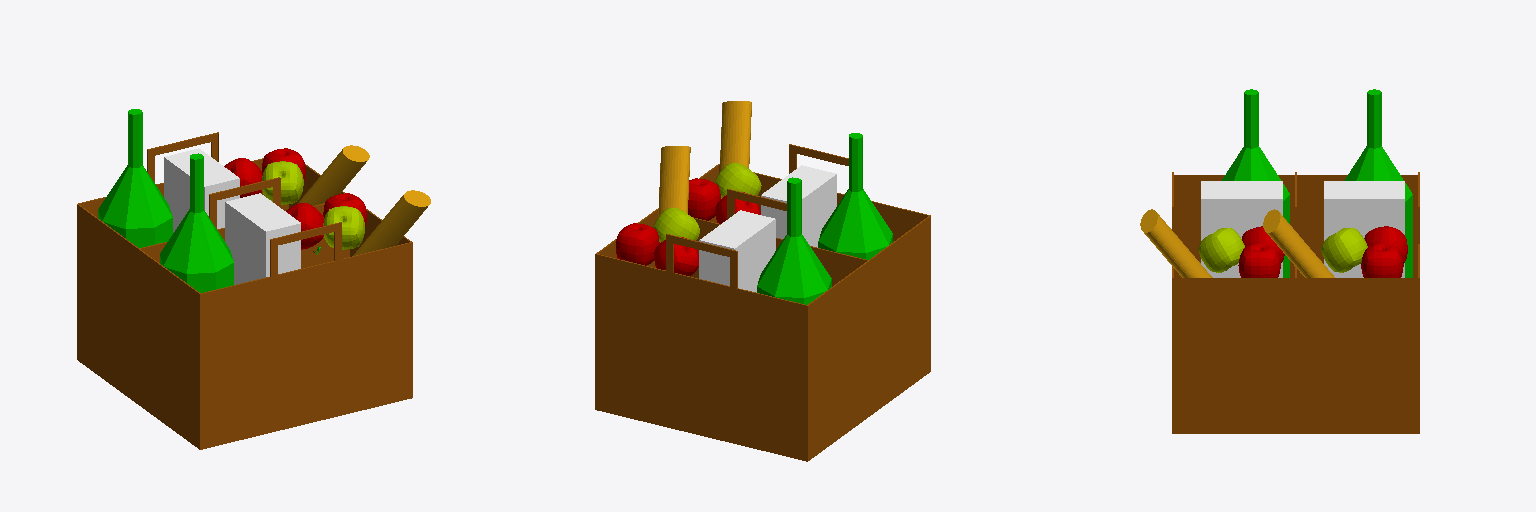
The model's file is sac2_60.obj.
3 renders of one model, left to right at view 1: azimuth 30°, elevation 25°; view 2: azimuth 150°, elevation 25°; view 3: azimuth 270°, elevation 25°, orthographic.
Parts seen in each view (by area): view 1: Cube.001, Cube.004, ungrouped.001, ungrouped, Cube_Cube.003, Cube_Cube.000, Cylinder, Cylinder.001, Cube.001_Cube.002, Cube.001_Cube.000, Pomme_Cube.001, Pomme_Cube.000 (+2 smaller); view 2: Cube.004, Cube.001, ungrouped.001, ungrouped, Cube_Cube.000, Cube_Cube.003, Cylinder, Cylinder.001, Cube.003, Cube.002, Cube.001_Cube.000, Cube.001_Cube.002 (+2 smaller); view 3: Cube.004, Cube.001, Cube_Cube.000, Cube_Cube.003, ungrouped.001, ungrouped, Cylinder.001, Cylinder, Cube.001_Cube.002, Cube.001_Cube.000, Cube.003, Cube.002 (+1 smaller).
Part boxes in pixels (left/top/right/bottom): Cube.001: left=138, top=177, right=412, bottom=449; Cube.004: left=77, top=132, right=349, bottom=404; ungrouped.001: left=98, top=109, right=172, bottom=247; ungrouped: left=160, top=153, right=233, bottom=292; Cube_Cube.003: left=225, top=193, right=300, bottom=284; Cube_Cube.000: left=164, top=148, right=239, bottom=232; Cylinder: left=353, top=190, right=430, bottom=255; Cylinder.001: left=298, top=145, right=369, bottom=205; Cube.001_Cube.002: left=323, top=206, right=364, bottom=249; Cube.001_Cube.000: left=262, top=161, right=303, bottom=204; Pomme_Cube.001: left=286, top=203, right=323, bottom=249; Pomme_Cube.000: left=224, top=158, right=262, bottom=197; Cube.004: left=595, top=189, right=869, bottom=461; Cube.001: left=658, top=144, right=930, bottom=416; ungrouped.001: left=757, top=177, right=831, bottom=304; ungrouped: left=818, top=133, right=892, bottom=259; Cube_Cube.000: left=699, top=210, right=775, bottom=292; Cube_Cube.003: left=761, top=165, right=836, bottom=247; Cylinder: left=720, top=101, right=751, bottom=171; Cylinder.001: left=658, top=146, right=690, bottom=216; Cube.003: left=616, top=223, right=659, bottom=265; Cube.002: left=688, top=178, right=720, bottom=220; Cube.001_Cube.000: left=653, top=208, right=699, bottom=242; Cube.001_Cube.002: left=715, top=163, right=761, bottom=198; Cube.004: left=1295, top=172, right=1419, bottom=433; Cube.001: left=1172, top=172, right=1296, bottom=433; Cube_Cube.000: left=1324, top=181, right=1404, bottom=277; Cube_Cube.003: left=1201, top=181, right=1282, bottom=277; ungrouped.001: left=1344, top=89, right=1412, bottom=277; ungrouped: left=1222, top=89, right=1289, bottom=277; Cylinder.001: left=1263, top=209, right=1334, bottom=277; Cylinder: left=1140, top=209, right=1212, bottom=277; Cube.001_Cube.002: left=1198, top=228, right=1244, bottom=272; Cube.001_Cube.000: left=1321, top=228, right=1367, bottom=272; Cube.003: left=1361, top=244, right=1403, bottom=277; Cube.002: left=1238, top=244, right=1280, bottom=277.
Bounding box in the file's own units: 30.94 × 34.5 × 34.11.